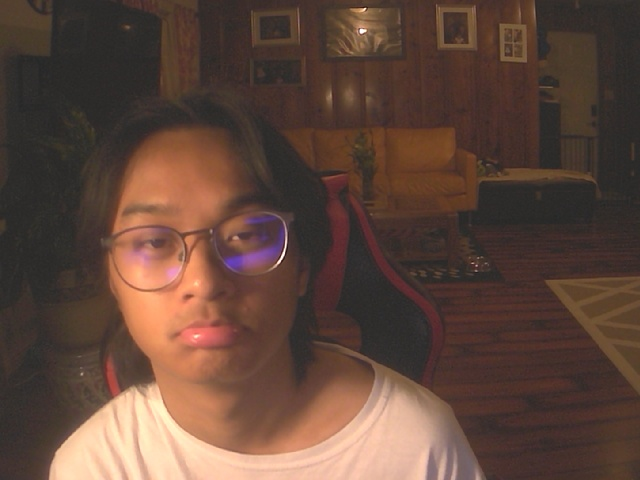sad: (74, 89, 331, 387)
